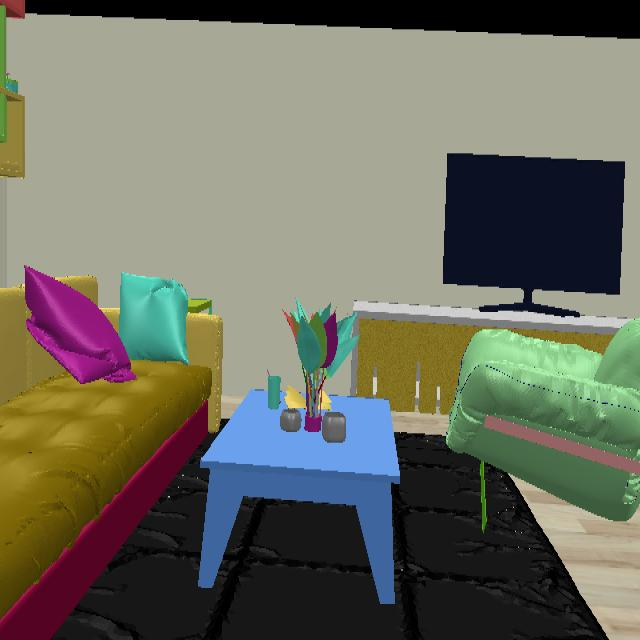monitor: (445, 153, 625, 309)
pillow: (24, 267, 189, 387)
sofa: (0, 284, 223, 640), (446, 321, 640, 524)
table: (198, 392, 401, 609)
